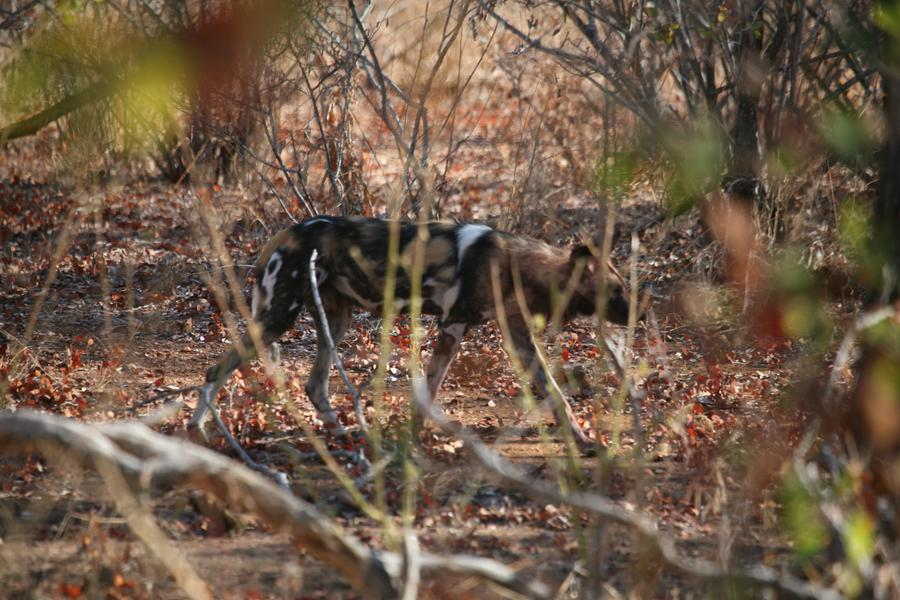wilddog: (245, 215, 615, 445)
